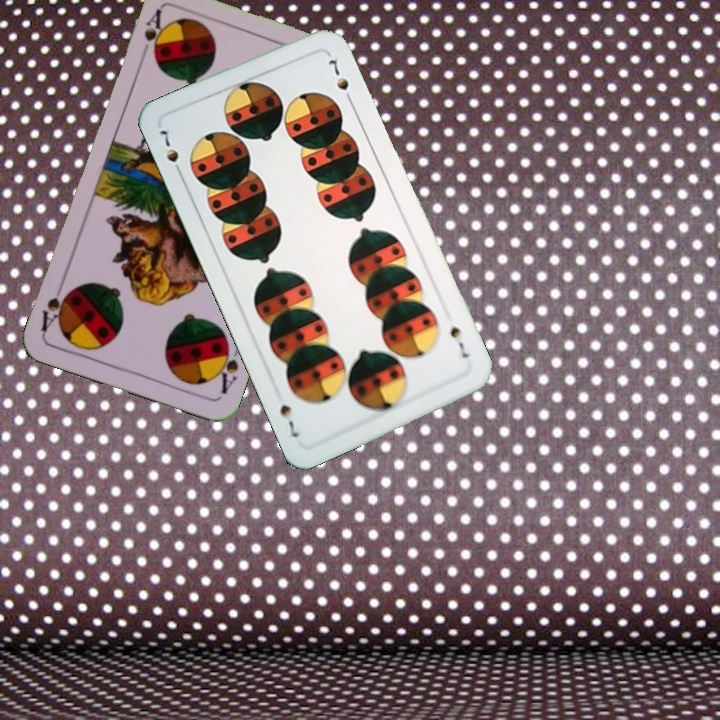S7: (155, 125, 186, 180), (446, 322, 472, 361)
SA: (211, 338, 243, 397), (140, 5, 164, 56)
